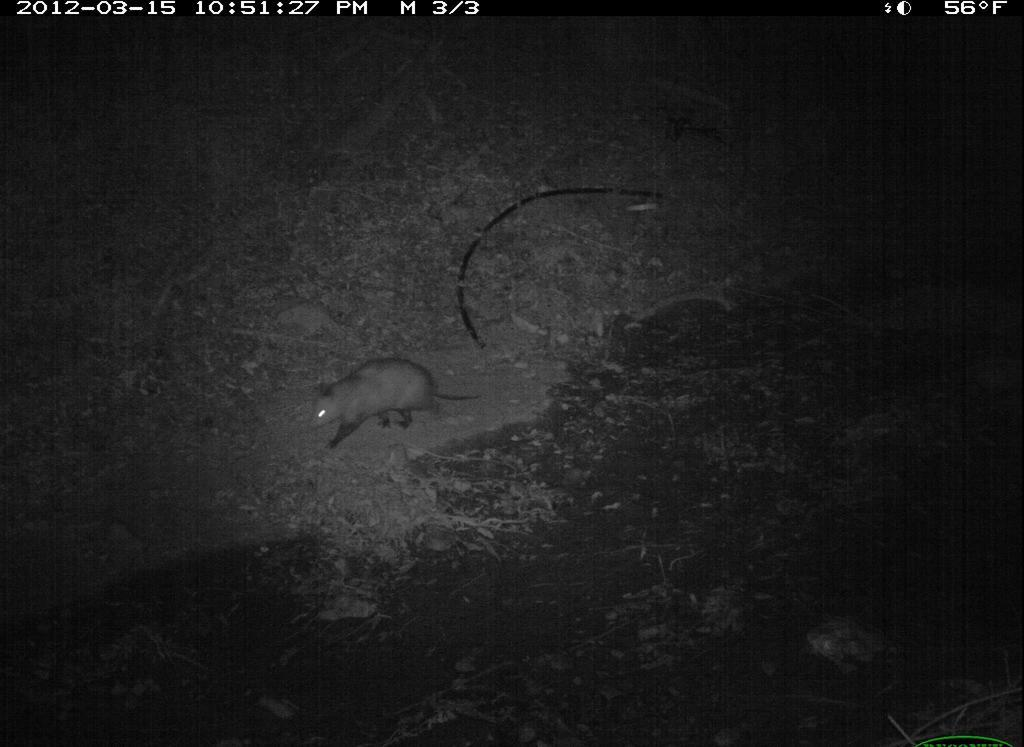opossum: (290, 346, 487, 463)
